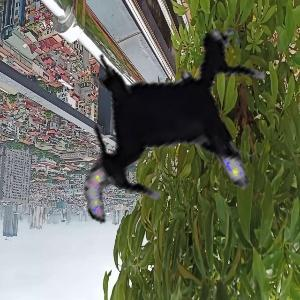drone: (50, 8, 299, 257)
